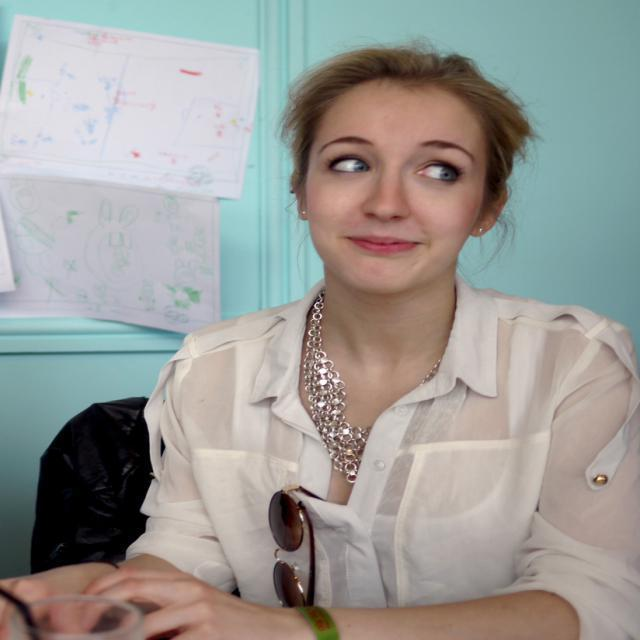closed-mouth: (345, 235, 419, 254)
